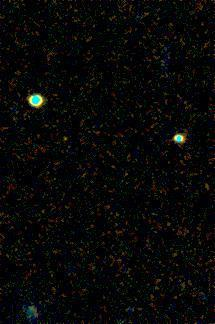star: (50, 124, 80, 154)
